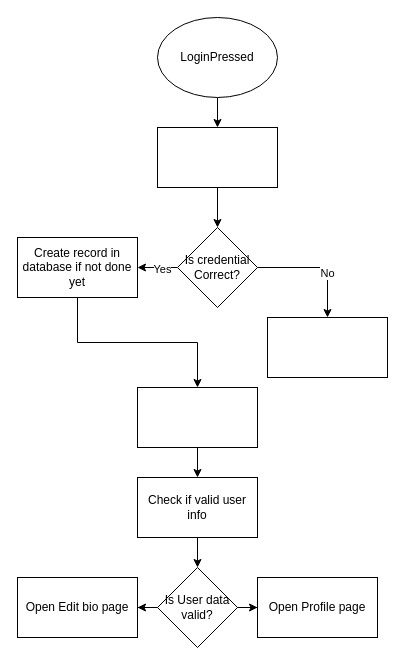
This 405x665 diagram has some shape labels left out. Here are the shapes that lost their labels. From the top down, the box of each, then its label:
(156, 126, 278, 188): Check if credential is correct
(266, 316, 388, 378): Show error message
(136, 386, 258, 448): Open Profile decider Page
